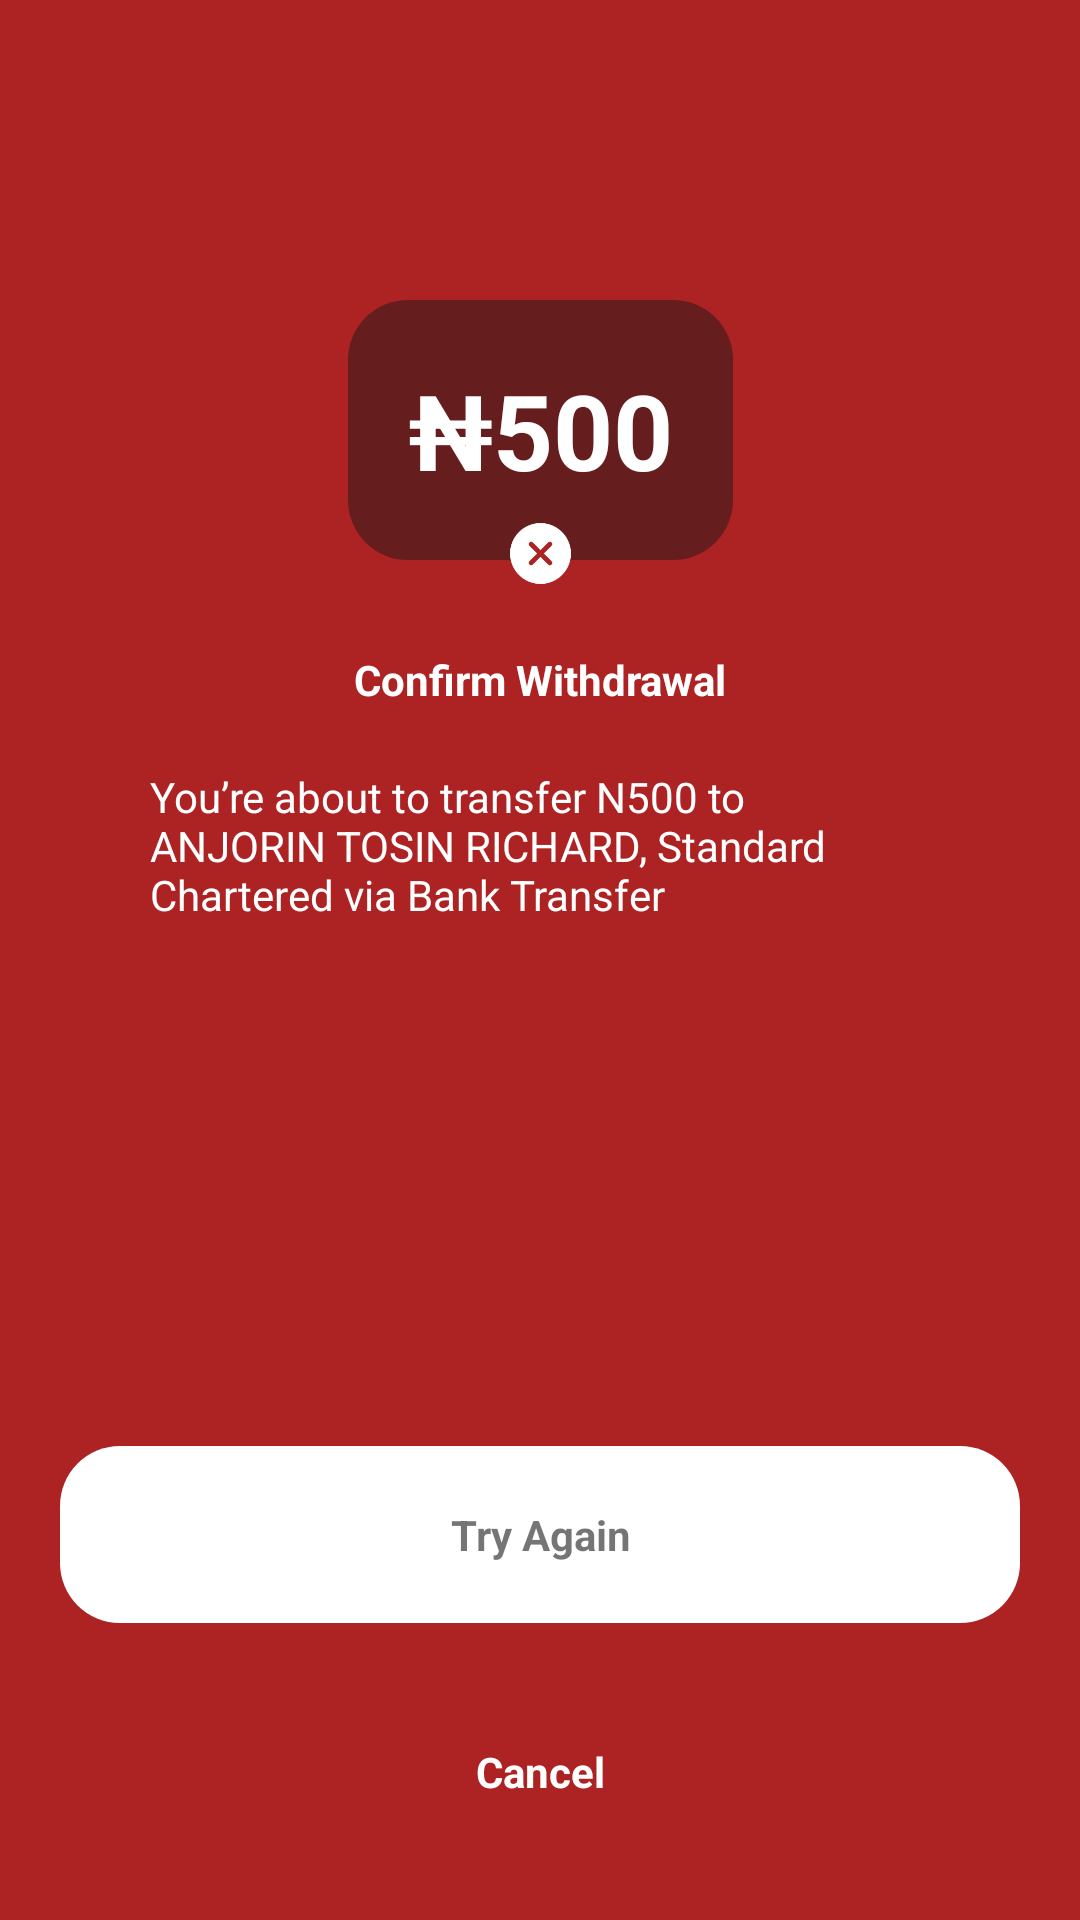

Point at icon controls on the screen. Image size 1080*1920, points as [x,y].
fail: [540,553]
